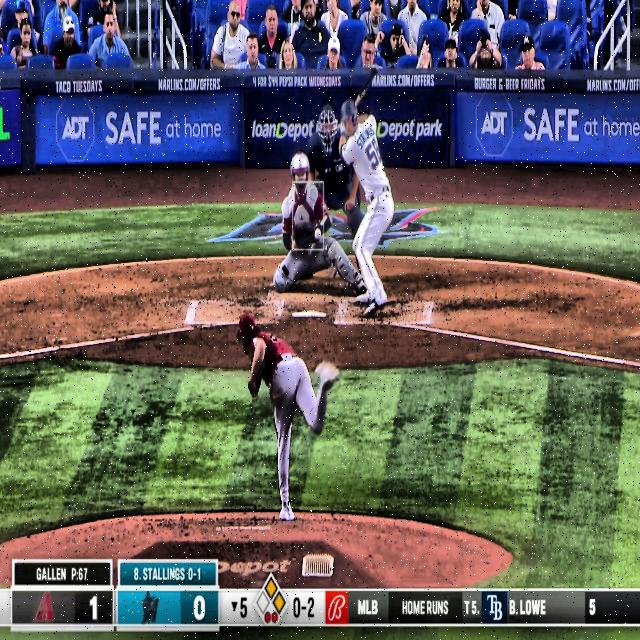baseball: (314, 227, 322, 241)
